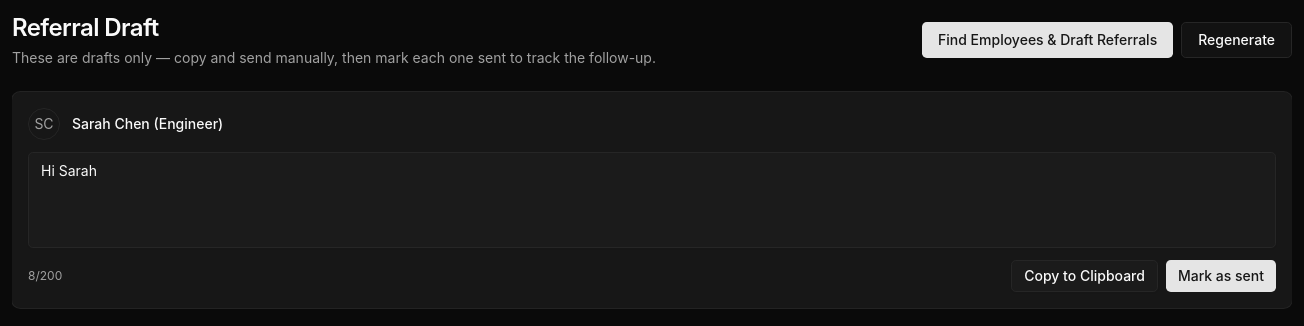
Scenario: ReferralDraft › marks a draft as sent and locks the button once recorded
Step 1. Click the button "Mark as sent" → coordinates (1221, 276), box [1166,260,1276,292]
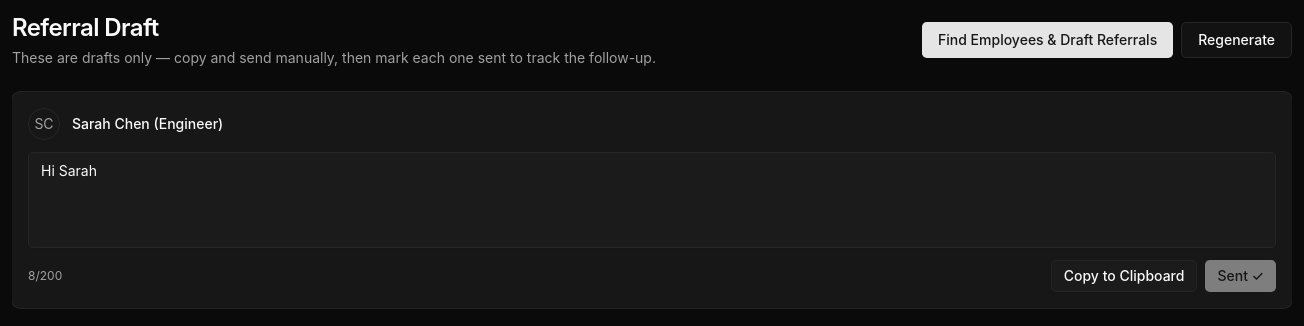
Expected: the button "Sent ✓" is disabled, [1205,260,1276,292]
